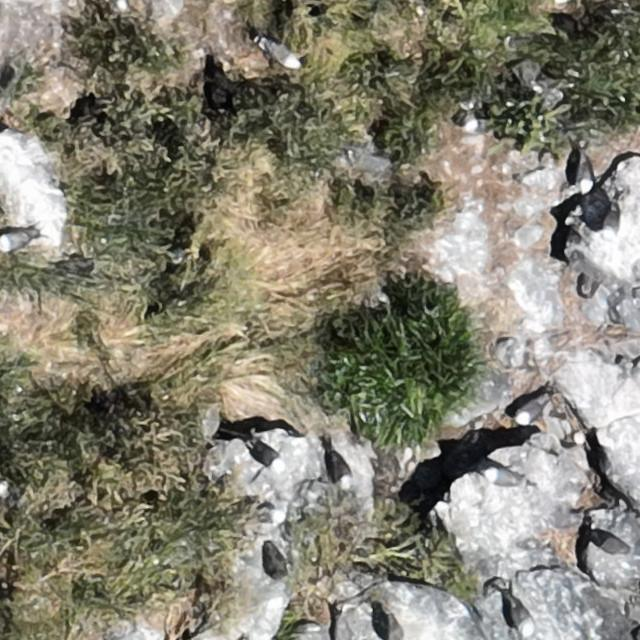umineko: (263, 41, 299, 67), (515, 398, 544, 424), (250, 442, 281, 466), (462, 114, 500, 132), (331, 455, 351, 488), (510, 600, 530, 633), (576, 157, 594, 190), (487, 470, 518, 488), (2, 231, 30, 250), (602, 207, 618, 236)
